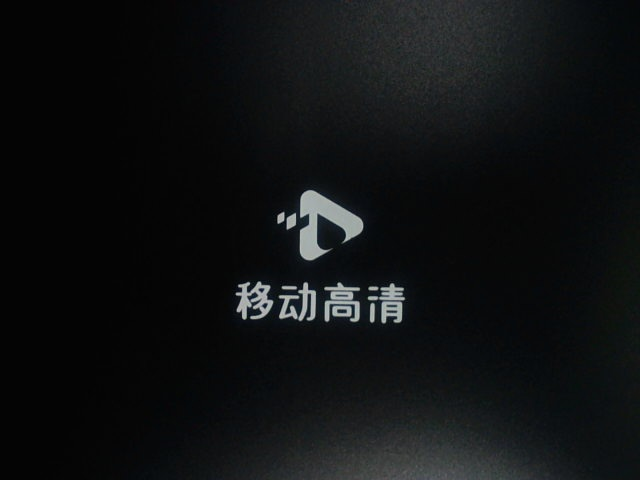AO_MobileHD: (193, 167, 424, 347)
